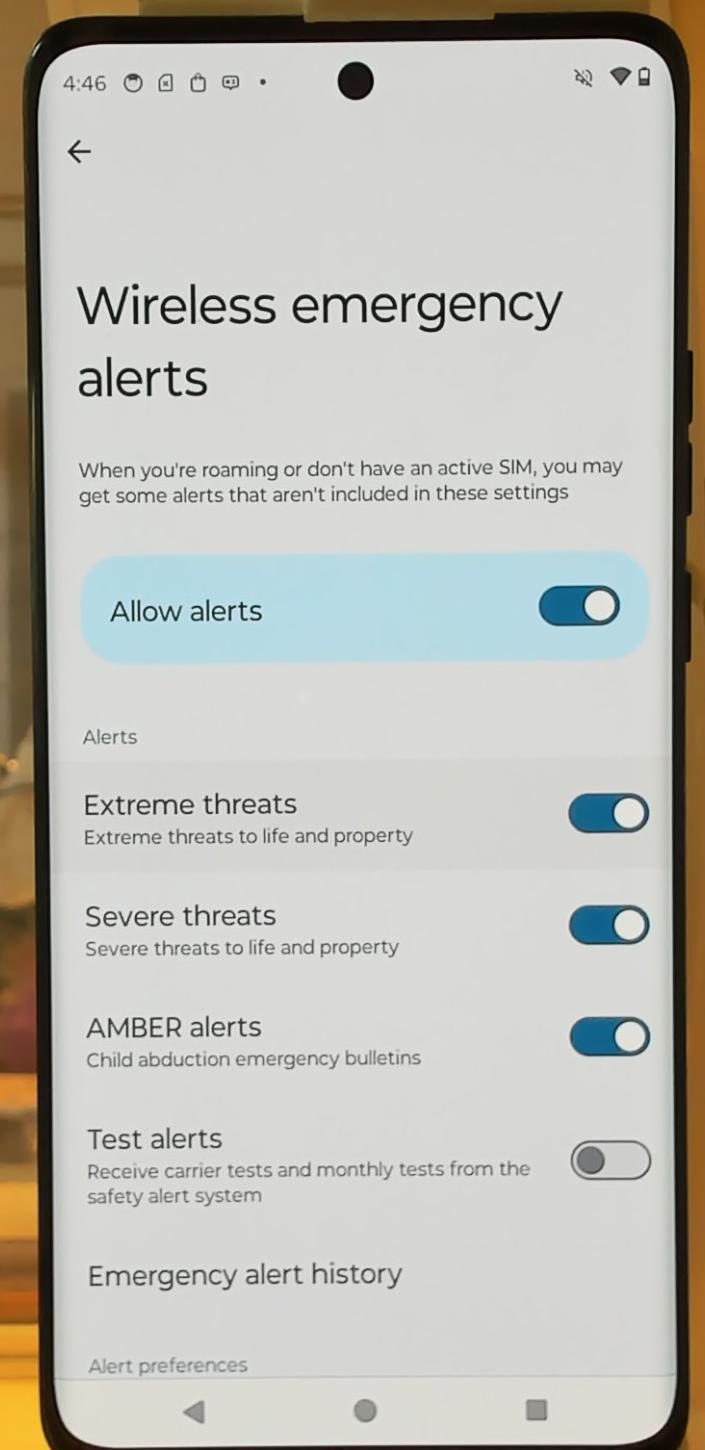Checkbox: (78, 1113, 660, 1219), (80, 1007, 654, 1072), (76, 784, 651, 846), (77, 893, 652, 954), (103, 570, 629, 636)
